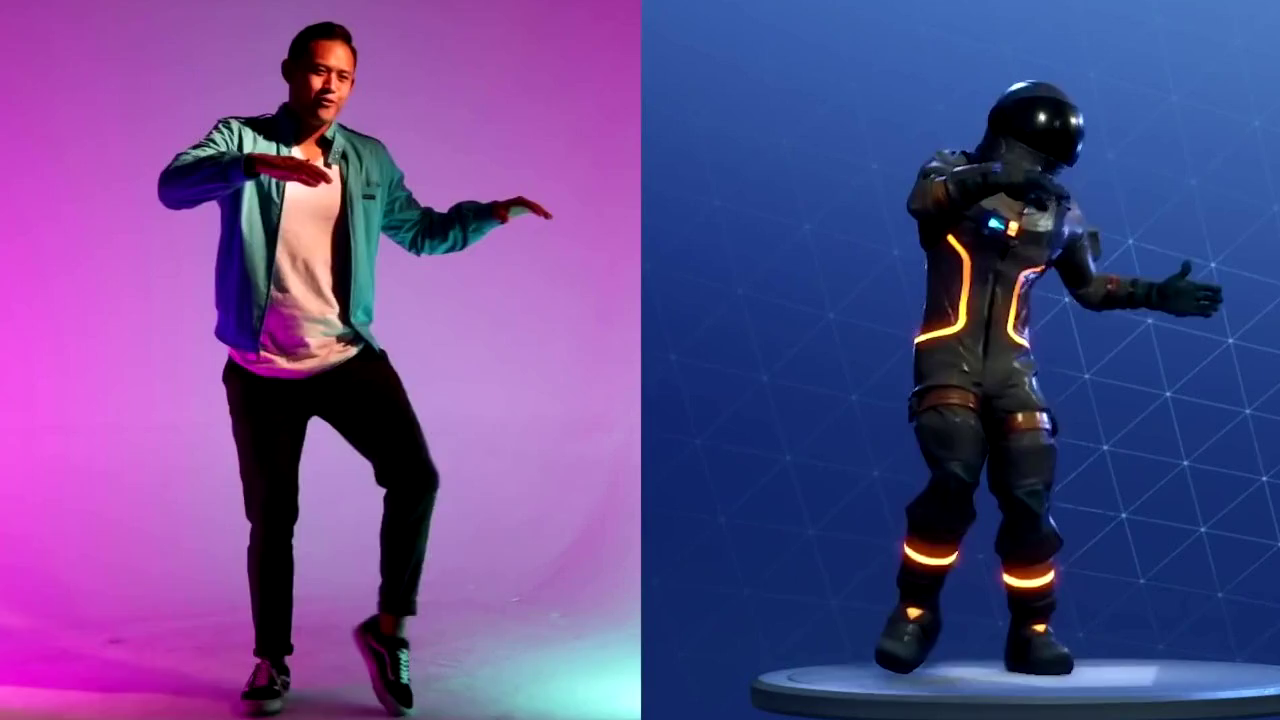Head: (273, 17, 368, 129)
Hip: (194, 309, 419, 422)
LeftAnkle: (337, 596, 441, 712)
LeftElbow: (395, 193, 465, 269)
LeftKnee: (339, 454, 468, 527)
LeftShoulder: (349, 114, 419, 172)
LeftWrist: (483, 187, 572, 245)
RightAnkle: (215, 622, 305, 716)
RightElbow: (145, 144, 226, 222)
RightKnee: (222, 480, 316, 560)
RightShoulder: (189, 104, 289, 161)
RightWrist: (235, 140, 337, 207)
Torso: (234, 124, 380, 358)
